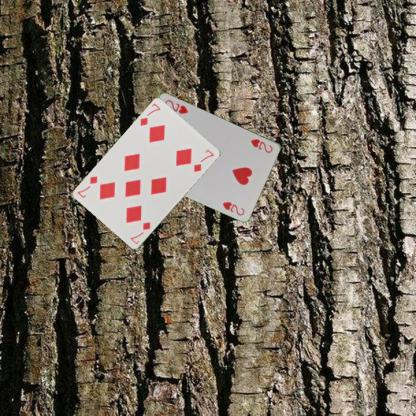2h: (248, 136, 274, 154)
7d: (137, 101, 162, 128), (128, 219, 152, 245)
